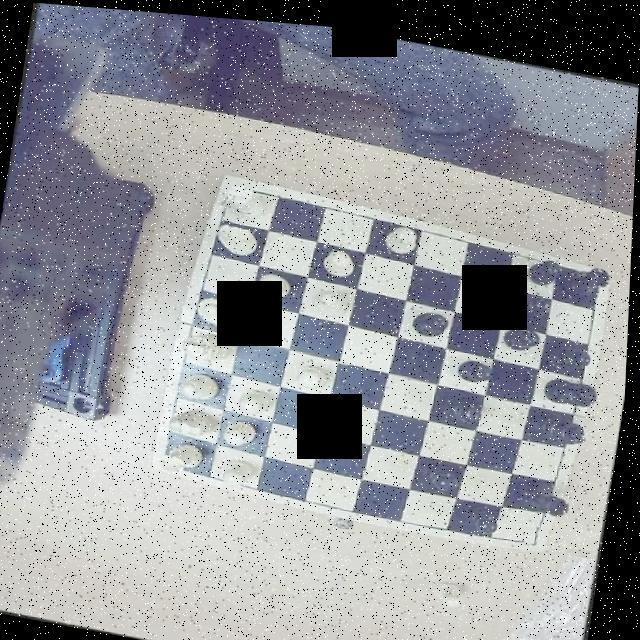chess-table-corners: (218, 170, 256, 208), (156, 434, 187, 468), (578, 256, 608, 289), (526, 514, 556, 544)
